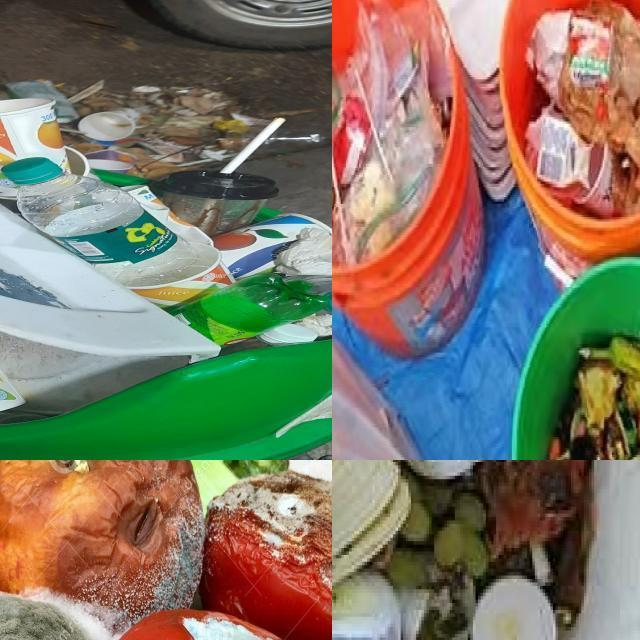Disposable: (151, 172, 278, 237)
Garbage: (0, 84, 332, 434), (0, 460, 332, 640), (332, 460, 610, 640), (332, 0, 452, 264)
Plastic: (258, 131, 325, 153), (258, 324, 319, 345), (218, 127, 262, 151)
Plastic_Bag: (332, 0, 452, 264)
Plastic_Straw: (221, 117, 285, 173)
Plastic_bottle: (2, 158, 212, 286), (174, 274, 329, 345), (285, 275, 332, 314)
Plastic_wraper: (7, 82, 80, 123)
